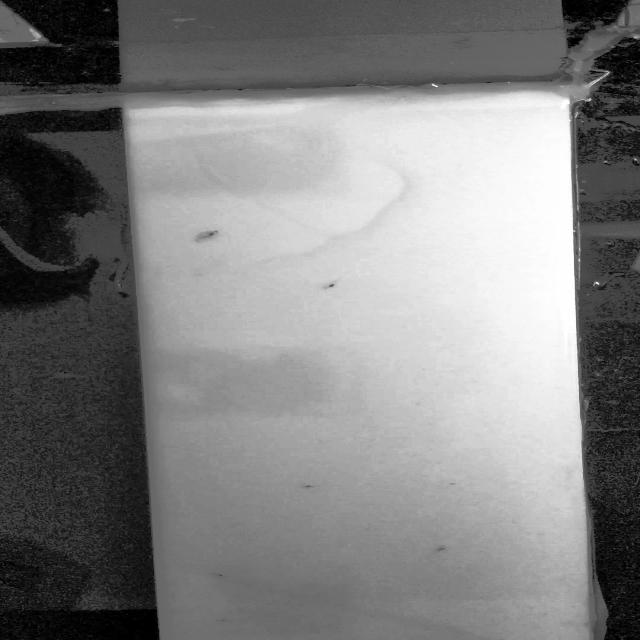shrimp: (188, 226, 234, 250), (425, 537, 467, 563), (202, 563, 244, 588), (284, 475, 334, 494), (313, 279, 359, 296), (209, 610, 242, 632)
